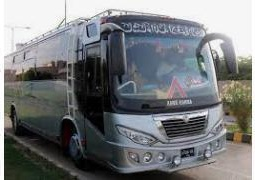bus: (5, 9, 239, 174)
